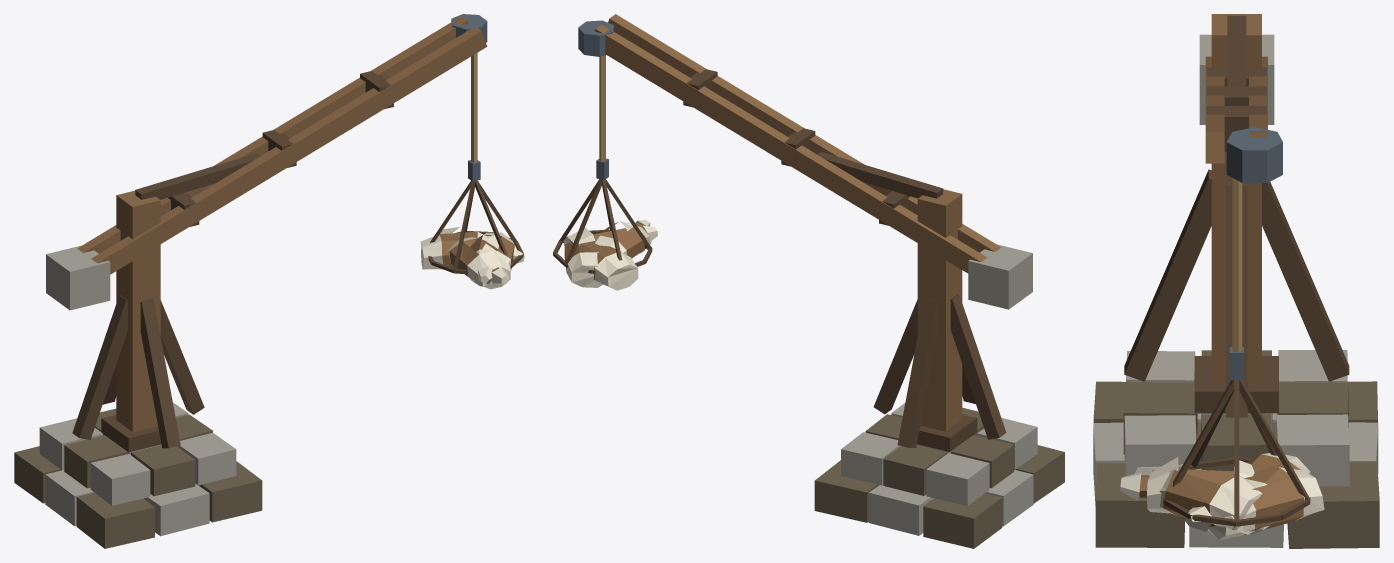
Rendered from quay-crane.glb.
3 renders of one model, left to right at view 1: azimuth 30°, elevation 25°; view 2: azimuth 150°, elevation 25°; view 3: azimuth 270°, elevation 25°, orthographic. The views are drawn at different scales.
Visible parts, largest first — view 1: quay-crane; view 2: quay-crane; view 3: quay-crane.
Part boxes in pixels (box(x1,y1,x2,y2)): quay-crane: box(14, 14, 524, 548); quay-crane: box(553, 14, 1064, 548); quay-crane: box(1093, 14, 1379, 548).
Size of the model in its own units: 6.84 by 5.57 by 2.38.
1 material, 1 textured.
